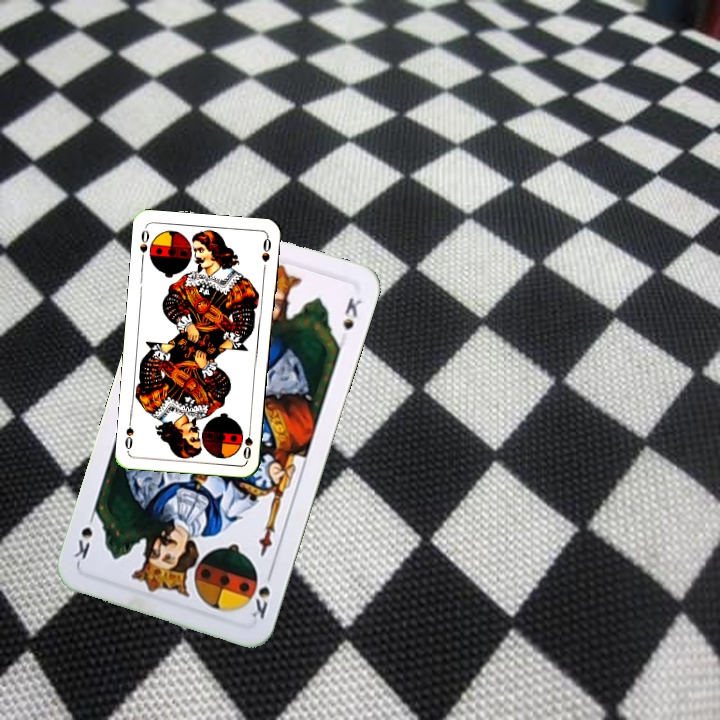SK: (247, 565, 276, 622)
SO: (239, 421, 255, 462), (136, 224, 151, 265)
